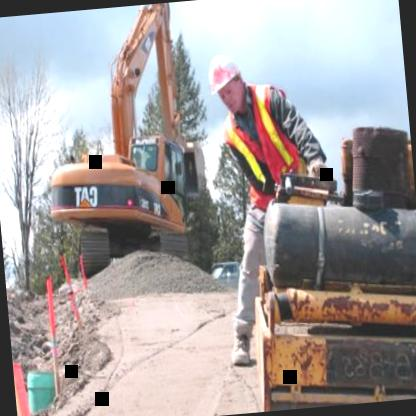helmet: (203, 46, 251, 115)
